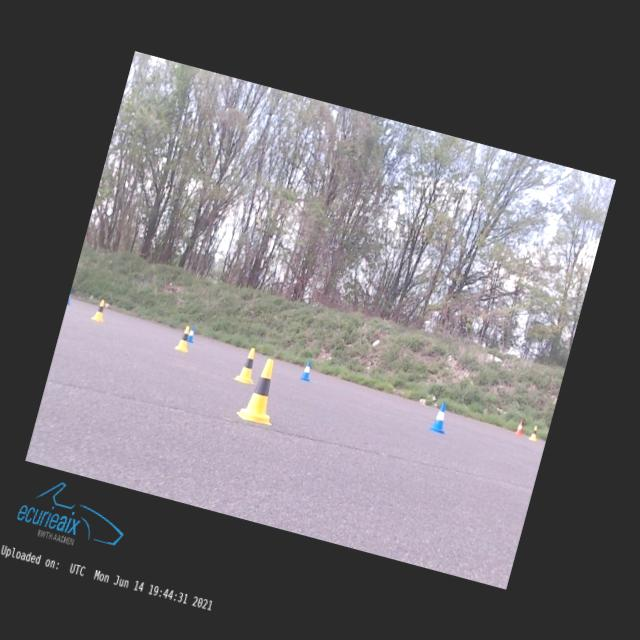blue_cone: (429, 401, 451, 434), (300, 359, 314, 382), (186, 325, 198, 343), (66, 292, 72, 305)
orange_cone: (514, 420, 524, 436)
yellow_cone: (235, 354, 288, 426), (232, 344, 263, 384), (174, 324, 194, 352), (90, 298, 108, 322), (528, 424, 540, 441)
